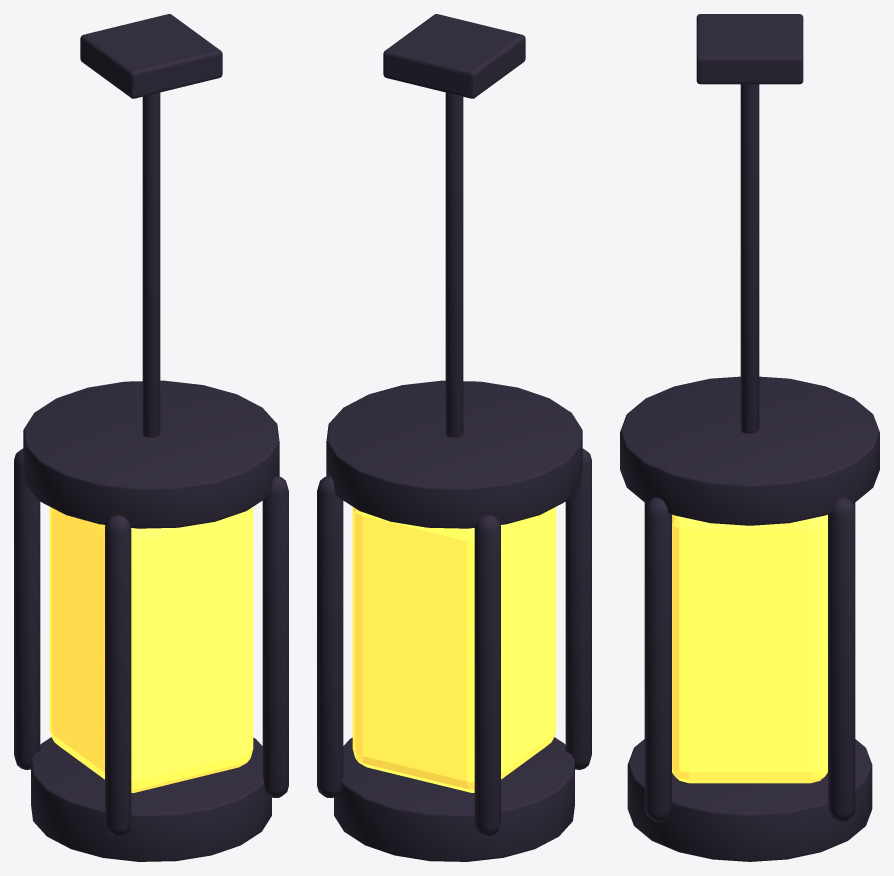
Rendered from lantern.glb.
3 renders of one model, left to right at view 1: azimuth 30°, elevation 25°; view 2: azimuth 150°, elevation 25°; view 3: azimuth 270°, elevation 25°, orthographic.
Parts seen in each view (by area): view 1: Amber_diffuser, Upper_cap, Lower_cap, Cage.001, Cage.003, Ceiling_rose, Cage, Suspension_cable; view 2: Amber_diffuser, Upper_cap, Lower_cap, Cage, Cage.002, Ceiling_rose, Cage.001, Suspension_cable; view 3: Amber_diffuser, Upper_cap, Lower_cap, Cage.002, Cage.003, Ceiling_rose, Suspension_cable.
Part boxes in pixels (x1,y1,x2,y2): Amber_diffuser: (49, 507, 253, 792); Upper_cap: (23, 380, 279, 528); Lower_cap: (31, 737, 271, 861); Cage.001: (105, 515, 131, 836); Cage.003: (262, 476, 288, 797); Ceiling_rose: (80, 14, 222, 98); Cage: (14, 448, 40, 769); Suspension_cable: (142, 92, 160, 437); Amber_diffuser: (352, 507, 556, 792); Upper_cap: (326, 380, 582, 528); Lower_cap: (334, 737, 574, 861); Cage: (474, 515, 500, 836); Cage.002: (317, 476, 343, 797); Ceiling_rose: (383, 14, 525, 98); Cage.001: (565, 448, 591, 769); Suspension_cable: (445, 92, 463, 437); Amber_diffuser: (672, 514, 827, 783); Upper_cap: (620, 376, 879, 525); Lower_cap: (627, 739, 872, 861); Cage.002: (828, 497, 855, 821); Cage.003: (644, 497, 671, 821); Ceiling_rose: (696, 14, 803, 84); Suspension_cable: (740, 84, 759, 433).
Bounding box in the file's own units: 0.34 × 1.12 × 0.34.
